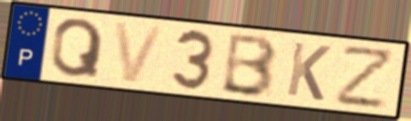3: (169, 28, 217, 92)
B: (218, 32, 280, 99)
K: (284, 39, 333, 103)
Q: (50, 16, 106, 80)
V: (112, 19, 168, 85)
Z: (334, 46, 397, 111)
